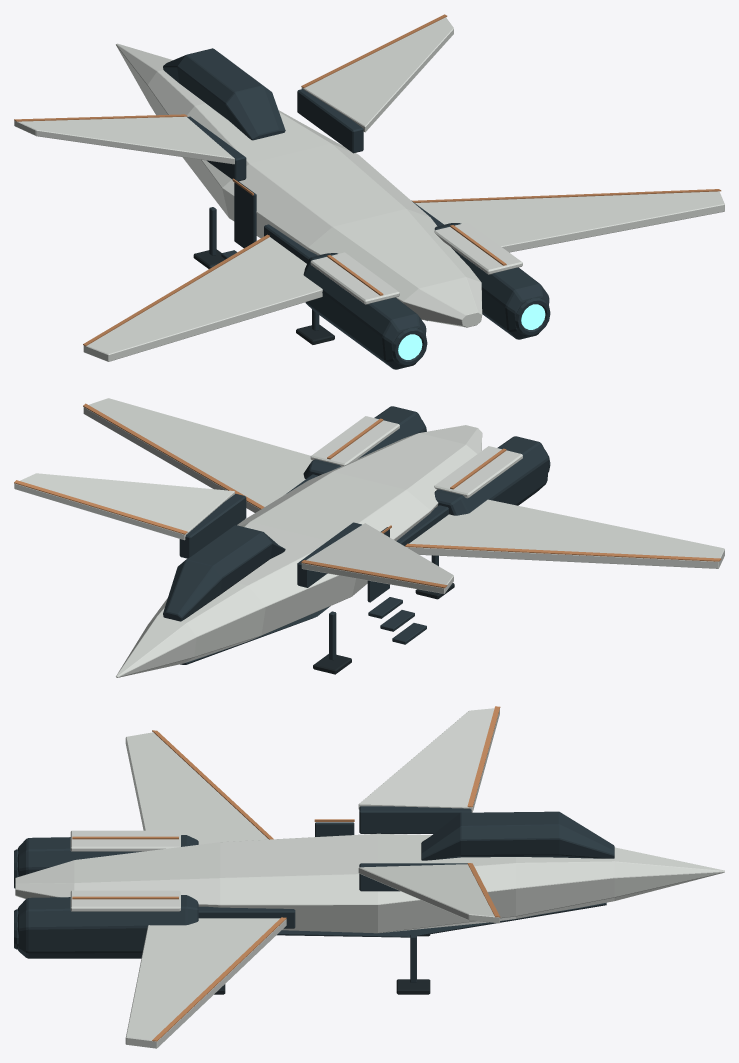
The model's file is aurora.glb.
The picture shows the model from 3 angles, top to bottom: view 1: azimuth 30°, elevation 25°; view 2: azimuth 150°, elevation 25°; view 3: azimuth 270°, elevation 25°; orthographic projection.
Visible parts, largest first — view 1: Fuselage_Wedge, Wing_Aft_Port, Wing_Aft_Starboard, Wing_Fore_Starboard, Wing_Fore_Port, Canopy_Frame, Nacelle_Port, Nacelle_Armor, Wing_Root_Joints, Copper_Accents, Nacelle_Starboard, Port_Boarding_Hatch (+2 smaller); view 2: Fuselage_Wedge, Wing_Aft_Port, Wing_Aft_Starboard, Wing_Fore_Starboard, Canopy_Frame, Wing_Fore_Port, Copper_Accents, Nacelle_Armor, Nacelle_Port, Wing_Root_Joints, Nacelle_Starboard, Pad_Fore_Port; view 3: Fuselage_Wedge, Wing_Aft_Starboard, Wing_Aft_Port, Nacelle_Starboard, Canopy_Frame, Wing_Fore_Port, Wing_Root_Joints, Nacelle_Armor, Wing_Fore_Starboard, Copper_Accents, Nacelle_Port, Belly_Keel (+1 smaller).
Part boxes in pixels (bbox=[...]): Fuselage_Wedge: bbox=[116, 43, 482, 327]; Wing_Aft_Port: bbox=[83, 237, 322, 361]; Wing_Aft_Starboard: bbox=[415, 191, 724, 252]; Wing_Fore_Starboard: bbox=[301, 17, 453, 132]; Wing_Fore_Port: bbox=[14, 116, 234, 164]; Canopy_Frame: bbox=[163, 48, 285, 140]; Nacelle_Port: bbox=[303, 253, 426, 369]; Nacelle_Armor: bbox=[310, 222, 522, 304]; Wing_Root_Joints: bbox=[187, 89, 443, 263]; Copper_Accents: bbox=[14, 14, 721, 346]; Nacelle_Starboard: bbox=[434, 223, 549, 339]; Port_Boarding_Hatch: bbox=[234, 180, 256, 248]; Fuselage_Wedge: bbox=[116, 425, 482, 677]; Wing_Aft_Port: bbox=[406, 499, 724, 568]; Wing_Aft_Starboard: bbox=[83, 398, 312, 512]; Wing_Fore_Starboard: bbox=[14, 473, 234, 540]; Canopy_Frame: bbox=[163, 525, 285, 621]; Wing_Fore_Port: bbox=[301, 523, 453, 593]; Copper_Accents: bbox=[14, 403, 721, 588]; Nacelle_Armor: bbox=[310, 416, 522, 498]; Nacelle_Port: bbox=[434, 436, 549, 515]; Wing_Root_Joints: bbox=[179, 474, 448, 587]; Nacelle_Starboard: bbox=[303, 406, 426, 478]; Pad_Fore_Port: bbox=[313, 654, 351, 674]; Fuselage_Wedge: bbox=[15, 833, 724, 933]; Wing_Aft_Starboard: bbox=[125, 918, 286, 1048]; Wing_Aft_Port: bbox=[125, 732, 268, 844]; Nacelle_Starboard: bbox=[17, 895, 198, 958]; Canopy_Frame: bbox=[421, 811, 614, 860]; Wing_Fore_Port: bbox=[358, 708, 499, 812]; Wing_Root_Joints: bbox=[198, 806, 471, 928]; Nacelle_Armor: bbox=[70, 830, 180, 911]; Wing_Fore_Starboard: bbox=[358, 864, 499, 923]; Copper_Accents: bbox=[72, 706, 500, 1041]; Nacelle_Port: bbox=[17, 835, 198, 876]; Belly_Keel: bbox=[277, 902, 606, 937].
Size of the model in its own units: 18.6 by 4.17 by 18.03.
